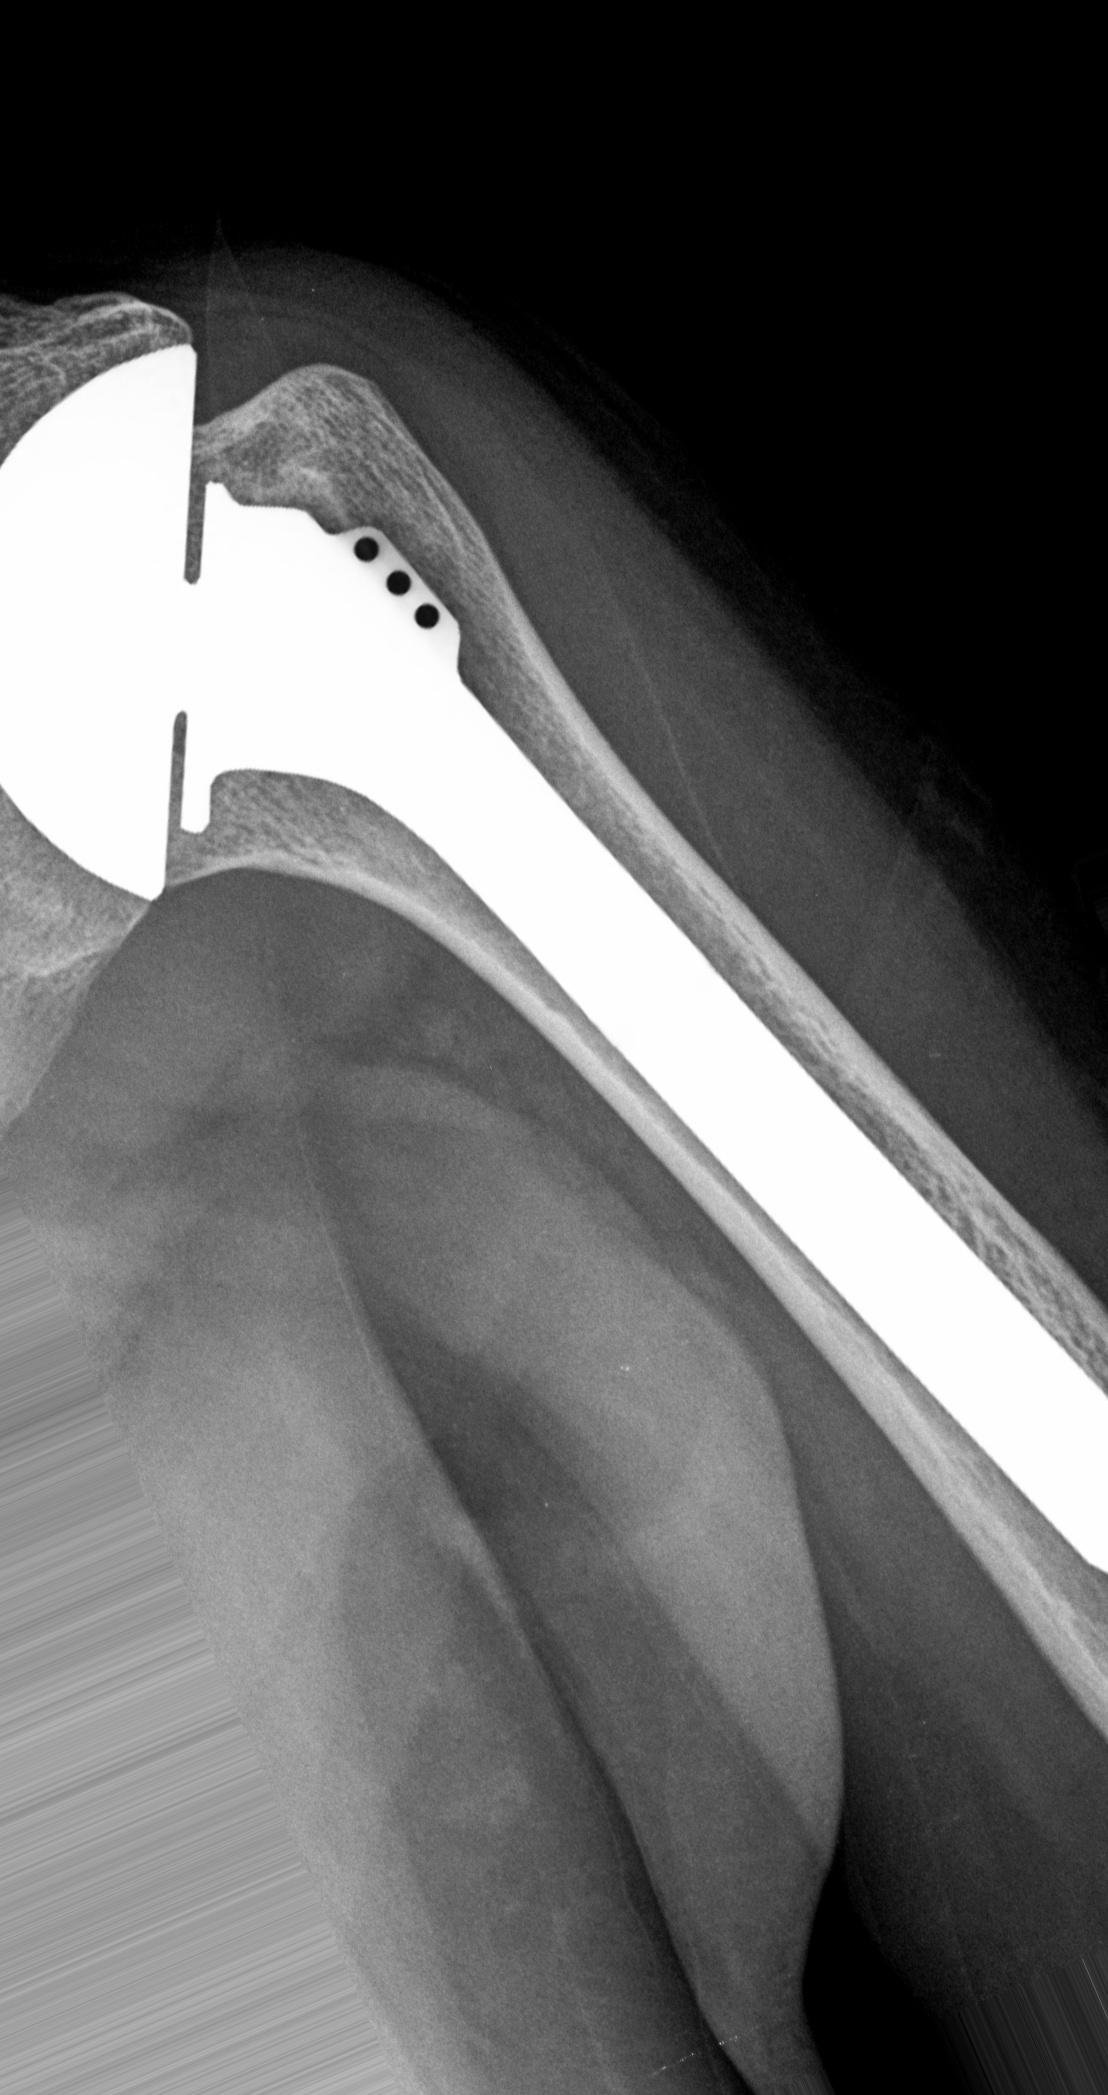Shoulder - Olympia - Wright: (3, 331, 474, 957)
